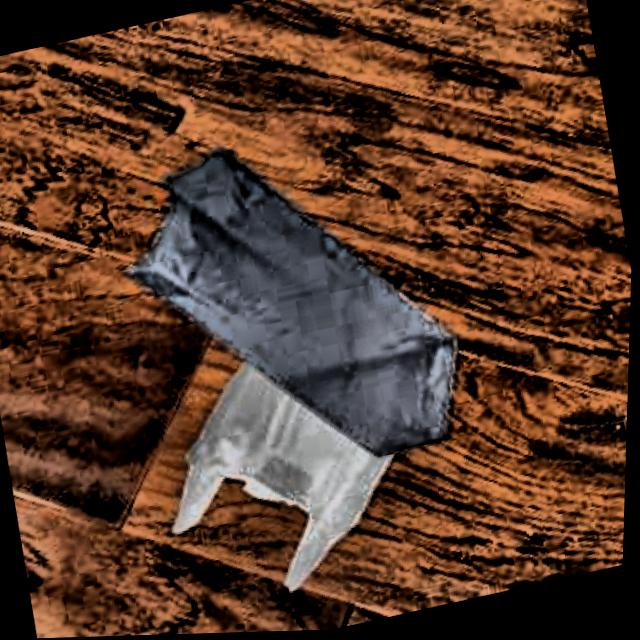Plastic: (91, 93, 491, 516), (135, 279, 487, 628)
